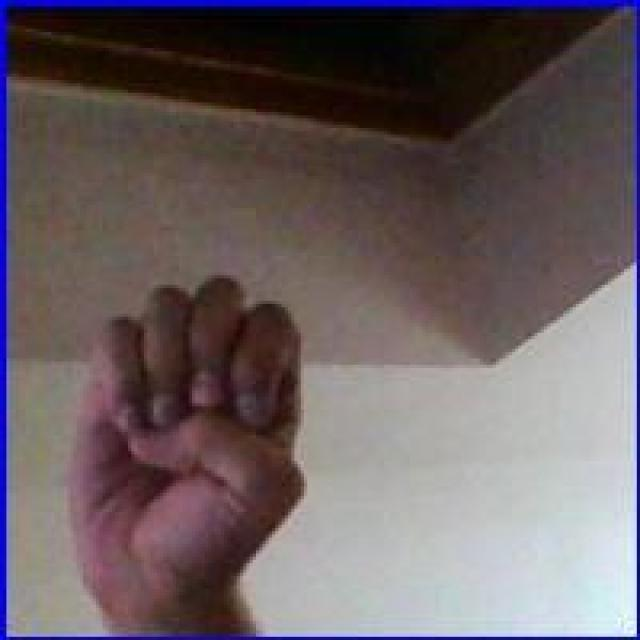E: (61, 272, 310, 605)
